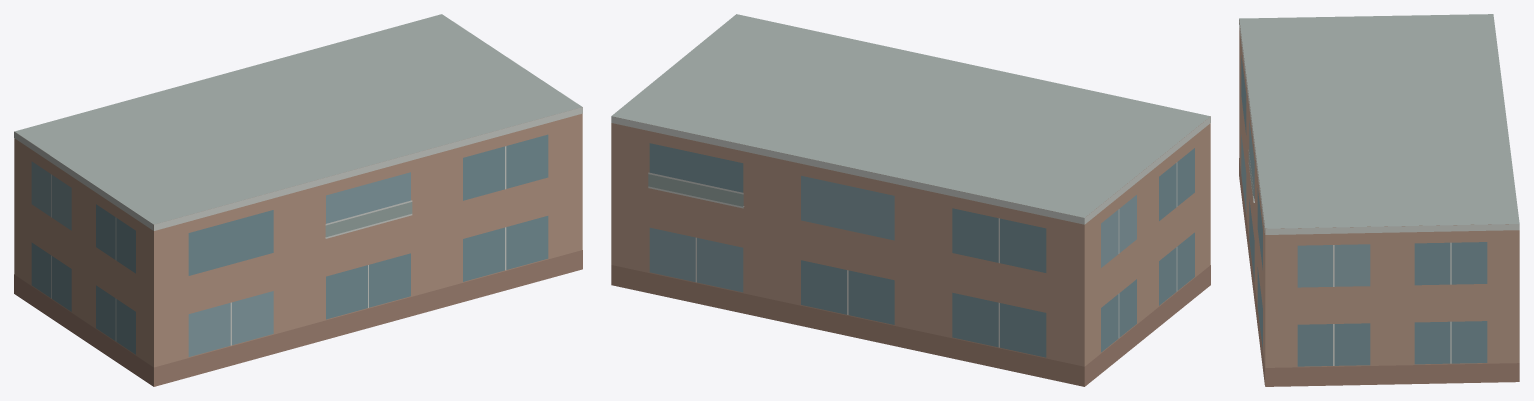
The model's file is survey-upis-32658885.glb.
3 renders of one model, left to right at view 1: azimuth 30°, elevation 25°; view 2: azimuth 150°, elevation 25°; view 3: azimuth 270°, elevation 25°, orthographic. The views are drawn at different scales.
Visible parts, largest first — view 1: survey-upis-32658885.tmp; view 2: survey-upis-32658885.tmp; view 3: survey-upis-32658885.tmp.
Part boxes in pixels (x1,y1,x2,y2): survey-upis-32658885.tmp: [14, 14, 582, 386]; survey-upis-32658885.tmp: [611, 14, 1210, 386]; survey-upis-32658885.tmp: [1239, 14, 1519, 386].
Size of the model in its own units: 17.78 by 6.1 by 9.81.
